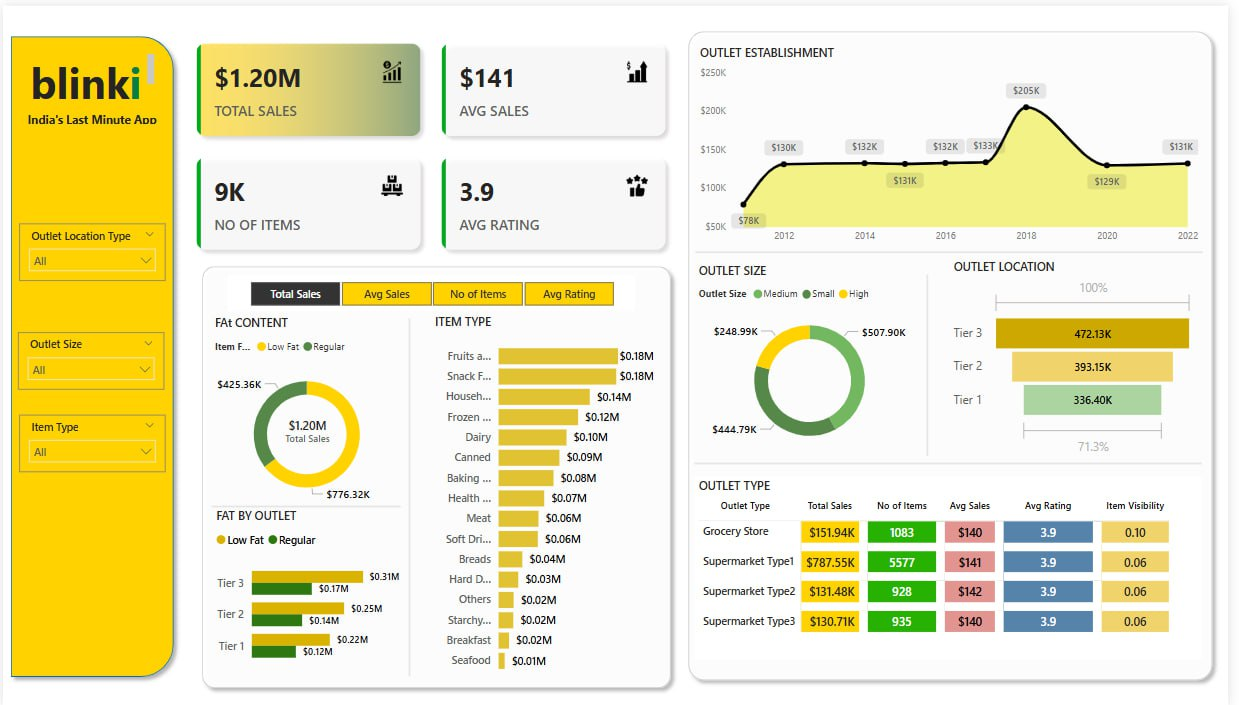

This screenshot's page, from the dashboard's own definition file:
{"tool":"powerbi","page":{"name":"Page 1","canvas":[1400,800],"ordinal":0},"visuals":[{"type":"shape","box":[0,25.5,204.1,750.4],"z":0},{"type":"shape","box":[218.5,288.2,553.6,500],"z":1000},{"type":"textbox","box":[19.5,49.5,157.6,76.5],"z":2000},{"type":"textbox","box":[22.5,115.6,204.1,24],"z":3000},{"type":"cardVisual","fields":{"Data":["BlinkIT Grocery Data.Total Sales","BlinkIT Grocery Data.Avg Sales","BlinkIT Grocery Data.No of Items","BlinkIT Grocery Data.Avg Rating"]},"box":[204.1,25.5,570.3,270.2],"z":4000},{"type":"donutChart","title":"FAt CONTENT","fields":{"Y":["BlinkIT Grocery Data.Total Sales"],"Category":["BlinkIT Grocery Data.Item Fat Content"]},"box":[237.3,352.5,221.2,229.2],"z":5000},{"type":"slicer","fields":{"Values":["Matrics.Matrics"]},"box":[257.4,308.3,465.1,40.2],"z":6000},{"type":"cardVisual","fields":{"Data":["BlinkIT Grocery Data.Total Sales"]},"box":[301.6,453.1,93.8,55],"z":7000},{"type":"clusteredBarChart","title":"FAT BY OUTLET","fields":{"Y":["BlinkIT Grocery Data.Total Sales"],"Category":["BlinkIT Grocery Data.Outlet Location Type"],"Series":["BlinkIT Grocery Data.Item Fat Content"]},"box":[238.6,572.4,219.8,193],"z":8000},{"type":"shape","box":[238.6,560.3,217.2,24.1],"z":9000},{"type":"shape","box":[458.4,356.6,12.1,408.8],"z":10000},{"type":"barChart","title":"ITEM TYPE","fields":{"Y":["BlinkIT Grocery Data.Total Sales"],"Category":["BlinkIT Grocery Data.Item Type"]},"box":[489.3,351.2,260.1,420.9],"z":11000},{"type":"shape","box":[774.3,20,617.1,760],"z":12000},{"type":"lineChart","title":"OUTLET ESTABLISHMENT","fields":{"Category":["BlinkIT Grocery Data.Outlet Establishment Year"],"Y":["BlinkIT Grocery Data.Total Sales"]},"box":[791.4,44.3,580,235.7],"z":13000},{"type":"donutChart","title":"OUTLET SIZE","fields":{"Y":["BlinkIT Grocery Data.Total Sales"],"Category":["BlinkIT Grocery Data.Outlet Size"]},"box":[790,292.9,264.3,225.7],"z":13001},{"type":"shape","box":[791.4,274.3,580,14.3],"z":13002},{"type":"funnel","title":"OUTLET LOCATION","fields":{"Y":["Sum(BlinkIT Grocery Data.Sales)"],"Category":["BlinkIT Grocery Data.Outlet Location Type"]},"box":[1081.4,288.6,284.3,230],"z":13003},{"type":"shape","box":[1048.6,307.1,15.7,207.1],"z":13004},{"type":"shape","box":[790,515.7,580,14.3],"z":13005},{"type":"pivotTable","title":"OUTLET TYPE","fields":{"Rows":["BlinkIT Grocery Data.Outlet Type"],"Values":["BlinkIT Grocery Data.Total Sales","BlinkIT Grocery Data.No of Items","BlinkIT Grocery Data.Avg Sales","BlinkIT Grocery Data.Avg Rating","Avg(BlinkIT Grocery Data.Item Visibility)"]},"box":[790,538.6,580,207.1],"z":13006},{"type":"slicer","fields":{"Values":["BlinkIT Grocery Data.Outlet Location Type"]},"box":[18.6,248.6,167.1,65.7],"z":13007},{"type":"slicer","fields":{"Values":["BlinkIT Grocery Data.Outlet Size"]},"box":[17.1,372.9,167.1,65.7],"z":13008},{"type":"slicer","fields":{"Values":["BlinkIT Grocery Data.Item Type"]},"box":[18.6,467.1,167.1,65.7],"z":13009}]}

Visuals, with their boxes in screenshot pixels (x1, y1, x2, y2), scaled from the page's 1400x800 canvas onto the 1239x705 screenshot:
shape: 0:22:181:684
shape: 193:254:683:695
textbox: 17:44:157:111
textbox: 20:102:201:123
cardVisual - BlinkIT Grocery Data.Total Sales x BlinkIT Grocery Data.Avg Sales: 181:22:685:261
"FAt CONTENT" donutChart: 210:311:406:513
slicer - Matrics.Matrics: 228:272:639:307
cardVisual - BlinkIT Grocery Data.Total Sales: 267:399:350:448
"FAT BY OUTLET" clusteredBarChart: 211:504:406:675
shape: 211:494:403:515
shape: 406:314:416:675
"ITEM TYPE" barChart: 433:309:663:680
shape: 685:18:1231:687
"OUTLET ESTABLISHMENT" lineChart: 700:39:1214:247
"OUTLET SIZE" donutChart: 699:258:933:457
shape: 700:242:1214:254
"OUTLET LOCATION" funnel: 957:254:1209:457
shape: 928:271:942:453
shape: 699:454:1212:467
"OUTLET TYPE" pivotTable: 699:475:1212:657
slicer - BlinkIT Grocery Data.Outlet Location Type: 16:219:164:277
slicer - BlinkIT Grocery Data.Outlet Size: 15:329:163:387
slicer - BlinkIT Grocery Data.Item Type: 16:412:164:470
